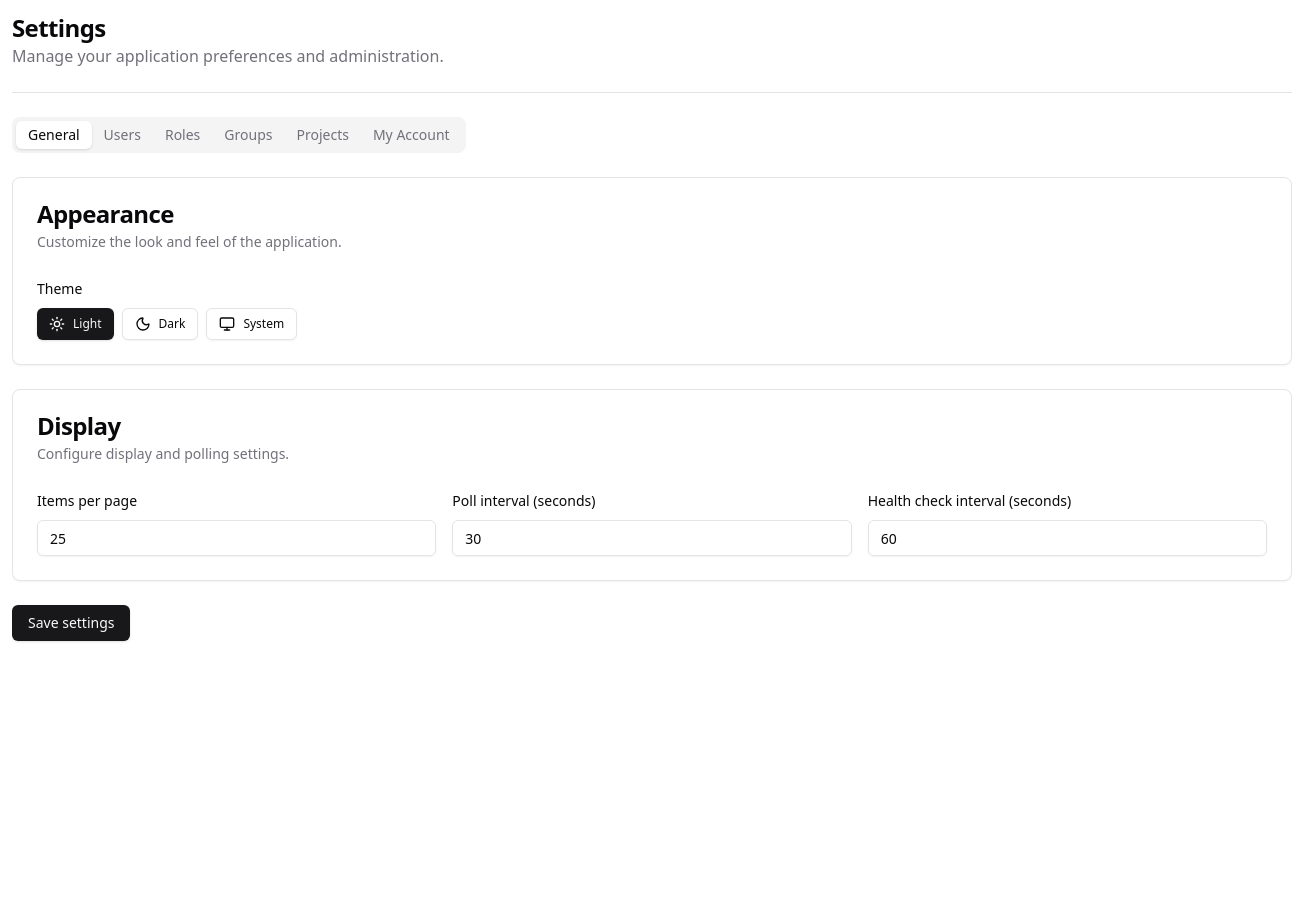
Test case: SettingsPage — Users tab CRUD › renders existing users in the Users tab
Click the tab "Users" at (122, 135), box x1=92 y1=121 x2=153 y2=149
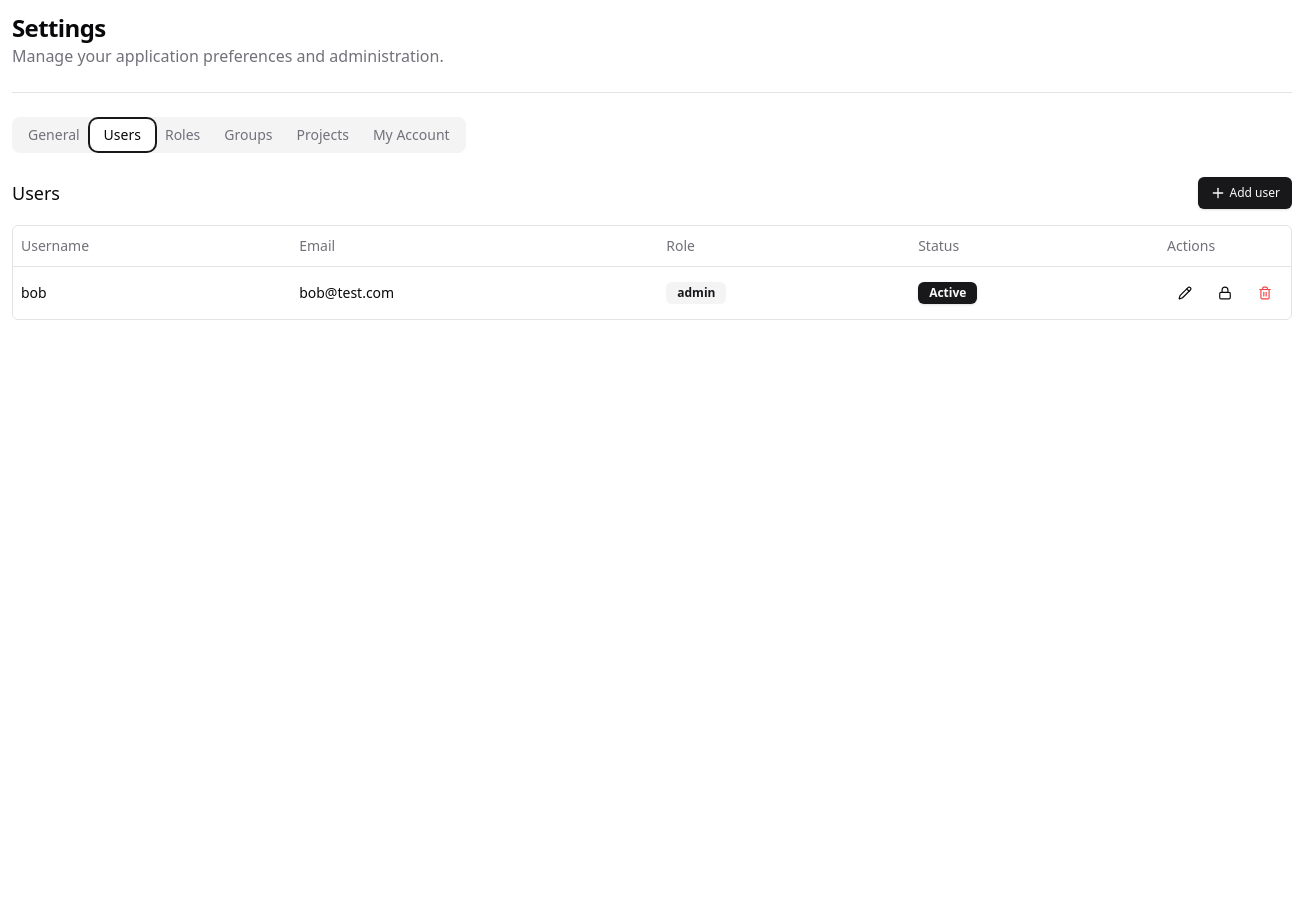
Check: the text "bob" is shown, box x1=13 y1=266 x2=291 y2=318
Check: the text "bob@test.com" is shown, box x1=291 y1=266 x2=658 y2=318
